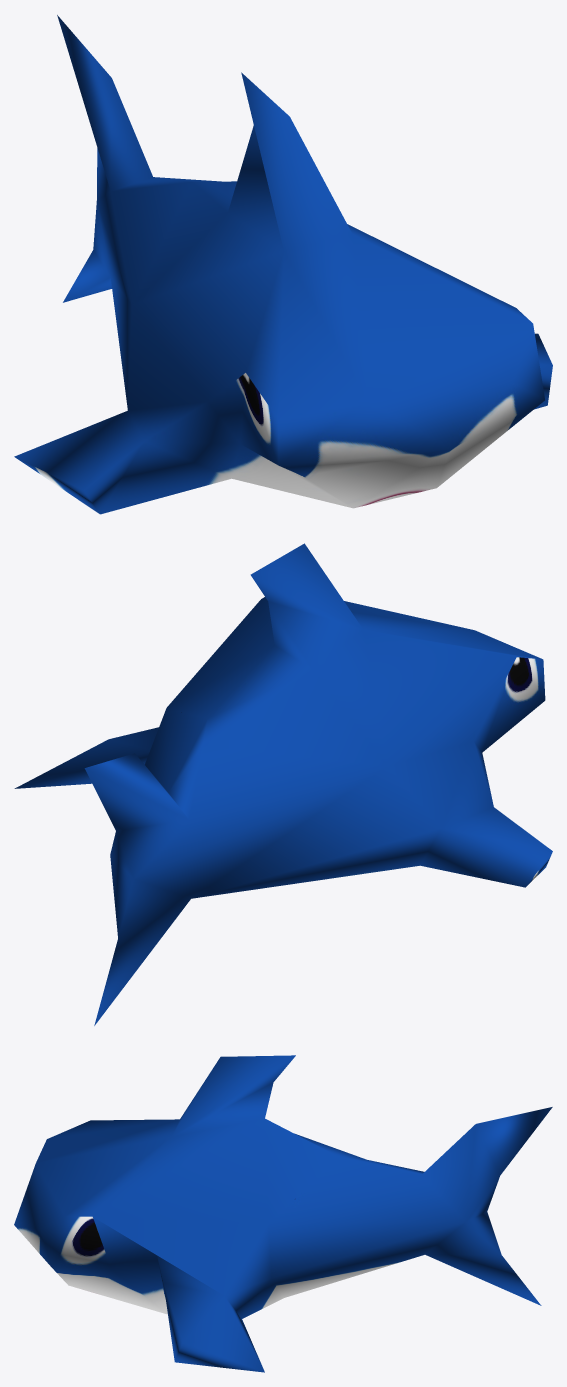
The model's file is squalo_LOD2.fbx.
3 views of the same model, one above another, from view 1: azimuth 30°, elevation 25°; view 2: azimuth 150°, elevation 25°; view 3: azimuth 270°, elevation 25° (orthographic). The views are drawn at different scales.
Visible parts, largest first — view 1: Group57338; view 2: Group57338; view 3: Group57338.
Part boxes in pixels (x1,y1,x2,y2): Group57338: (14,15,552,514); Group57338: (14,543,552,1025); Group57338: (14,1055,552,1372).
Size of the model in its own units: 1062 by 674 by 1303.
Materials: 1 (1 with a texture image).
